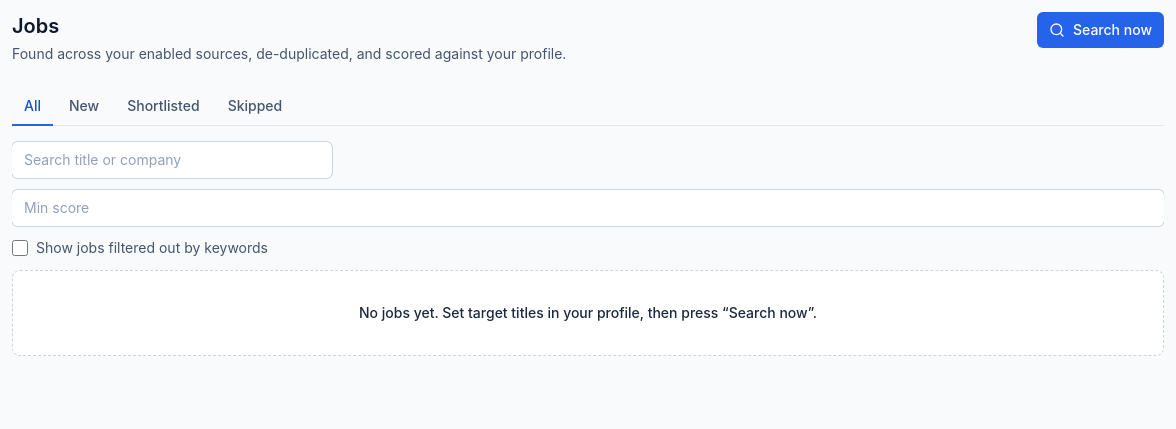
it: JobsPage › clears the searching banner when the run finishes and reports a failed source
Click the button "Search now" at (1100, 30), box [1037,12,1164,48]
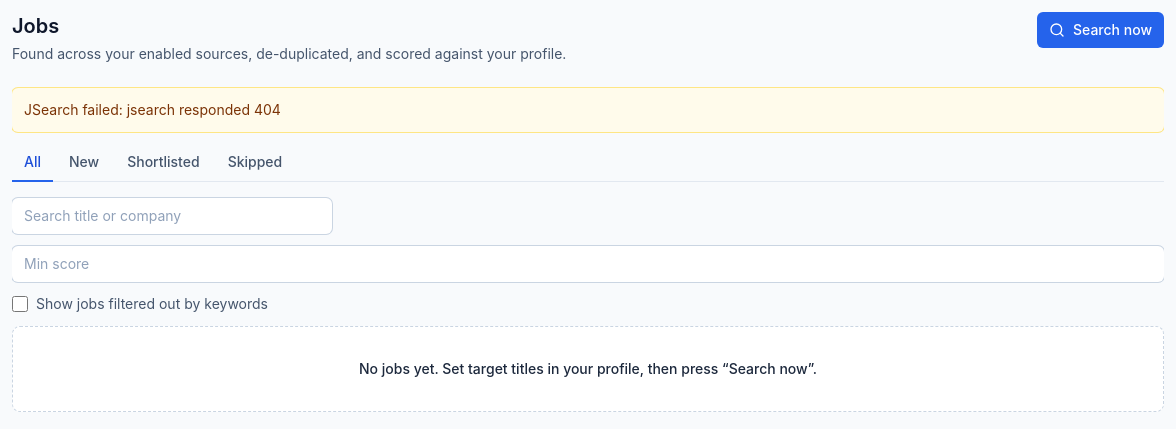
Check: the text "JSearch failed: jsearch responded 404" is shown, box [24,101,281,118]
